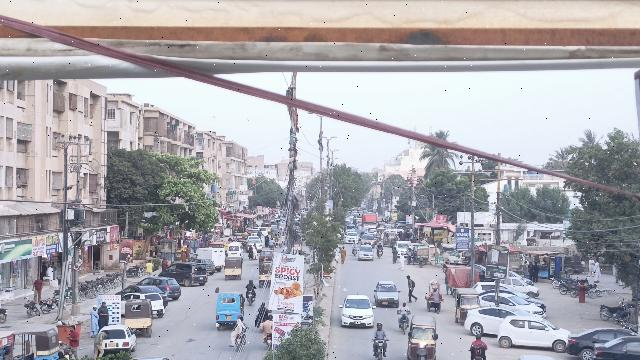Bike: (397, 313, 414, 334), (374, 338, 388, 359), (232, 333, 247, 349), (263, 332, 274, 351), (245, 290, 258, 306)
Car: (495, 312, 570, 352), (563, 321, 624, 359), (462, 303, 521, 337), (480, 291, 548, 317), (589, 330, 640, 360), (336, 293, 377, 328), (158, 262, 210, 286), (102, 324, 138, 355), (372, 280, 402, 308)
Cart: (423, 278, 444, 314)
Person: (65, 324, 82, 359), (402, 273, 419, 304), (92, 330, 108, 360), (467, 334, 489, 353), (88, 305, 99, 341), (98, 300, 110, 327), (261, 313, 276, 333), (234, 314, 246, 333), (374, 322, 387, 339), (338, 245, 348, 265), (398, 299, 411, 313), (245, 277, 257, 291)
Rickshaw: (1, 327, 59, 360), (407, 312, 438, 360), (213, 291, 245, 331), (124, 297, 154, 336), (453, 286, 480, 321), (223, 255, 243, 281), (256, 261, 273, 288)
Truck: (194, 248, 225, 269)
